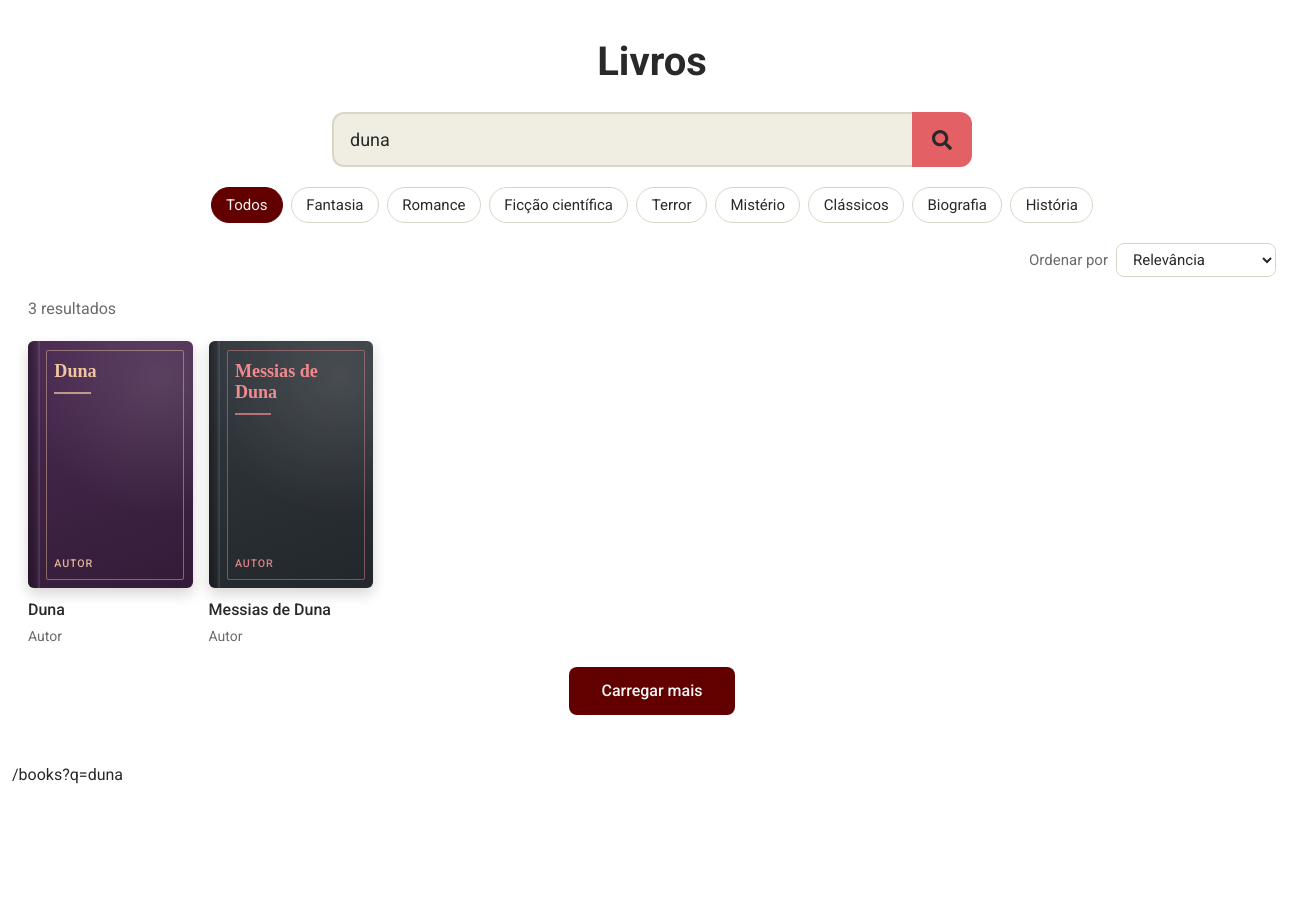
Test: AllBooksPage › remove livros repetidos ao carregar mais páginas
Click the button "Carregar mais" at (652, 691), box [570,667,734,715]
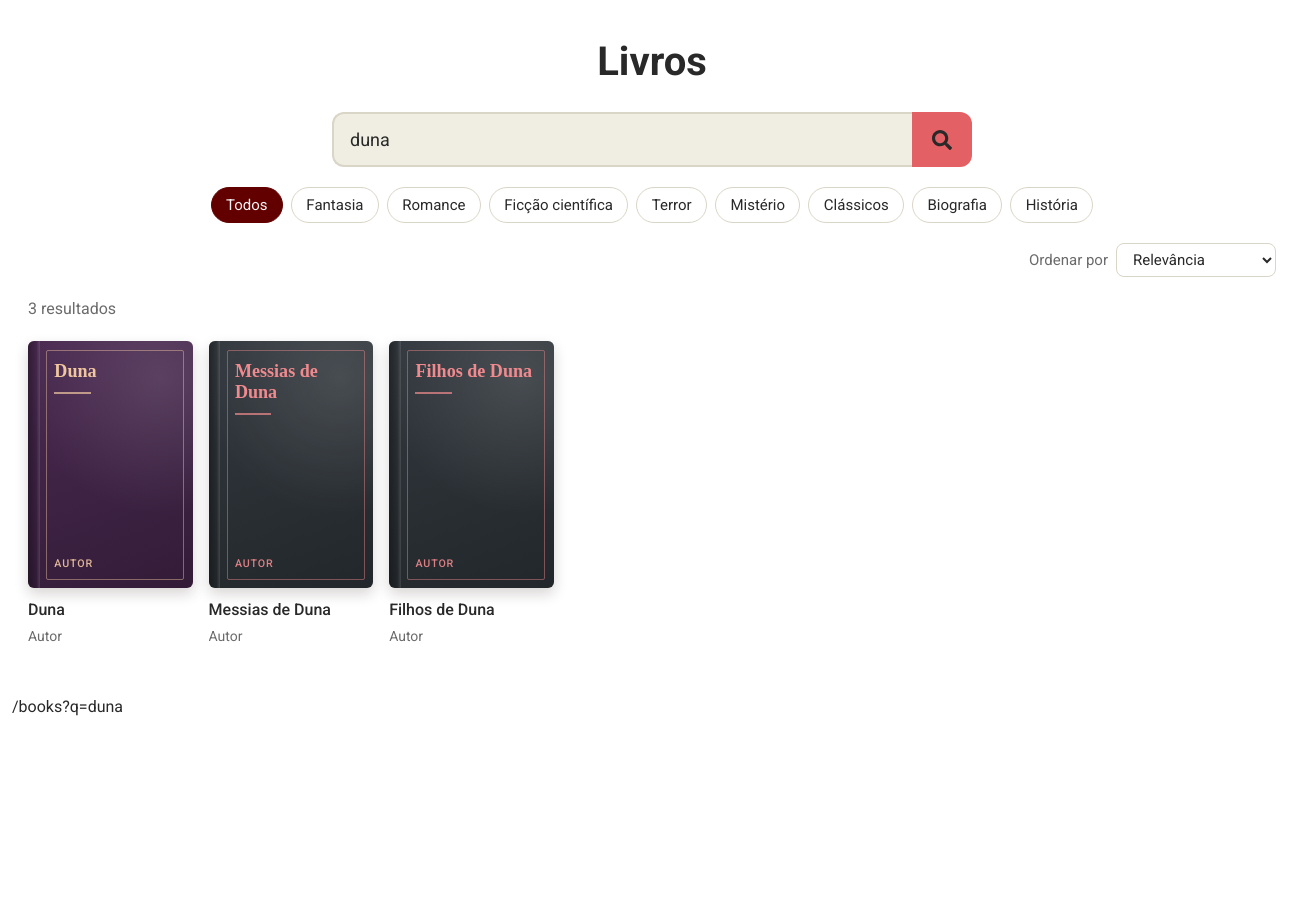
Expected: the number of headings "Messias de Duna" is 1, [209,600,331,619]
Expected: the heading "Filhos de Duna" is shown, [389,600,495,619]
Expected: the button "Carregar mais" is gone
